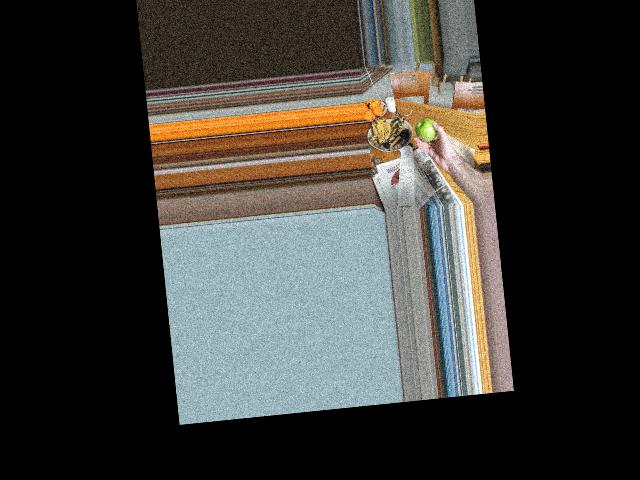apple: (413, 115, 442, 146)
